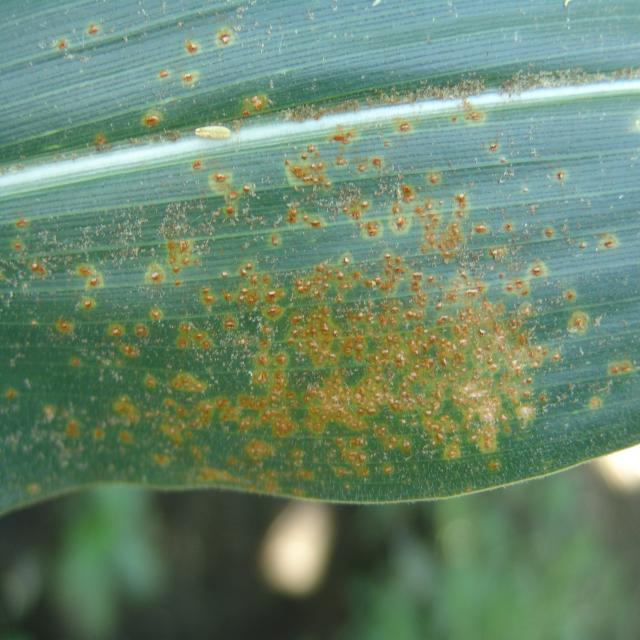Corn_Rust: (1, 0, 640, 511)
